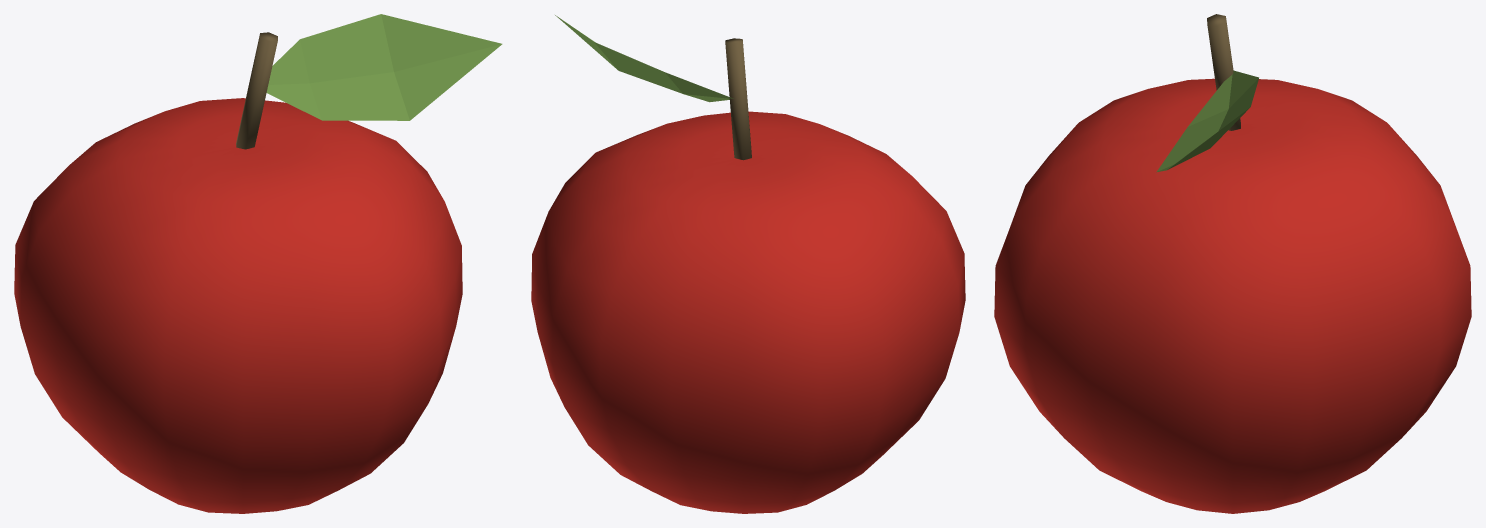
The model's file is apple.glb.
3 views of the same model, side by side, from view 1: azimuth 30°, elevation 25°; view 2: azimuth 150°, elevation 25°; view 3: azimuth 270°, elevation 25° (orthographic). The views are drawn at different scales.
Parts seen in each view (by area): view 1: apple__Apple_skin_scarlet, apple__Apple_leaves_sunlit_green, apple__Apple_stems; view 2: apple__Apple_skin_scarlet, apple__Apple_stems, apple__Apple_leaves_sunlit_green; view 3: apple__Apple_skin_scarlet, apple__Apple_leaves_sunlit_green, apple__Apple_stems.
Part boxes in pixels (x1,y1,x2,y2): apple__Apple_skin_scarlet: [14, 98, 462, 513]; apple__Apple_leaves_sunlit_green: [266, 14, 502, 120]; apple__Apple_stems: [236, 32, 277, 149]; apple__Apple_skin_scarlet: [531, 111, 965, 513]; apple__Apple_stems: [725, 38, 751, 160]; apple__Apple_leaves_sunlit_green: [555, 15, 733, 102]; apple__Apple_skin_scarlet: [994, 78, 1471, 513]; apple__Apple_leaves_sunlit_green: [1156, 70, 1258, 172]; apple__Apple_stems: [1207, 14, 1240, 130].
Size of the model in its own units: 0.0918 by 0.096 by 0.0872.
